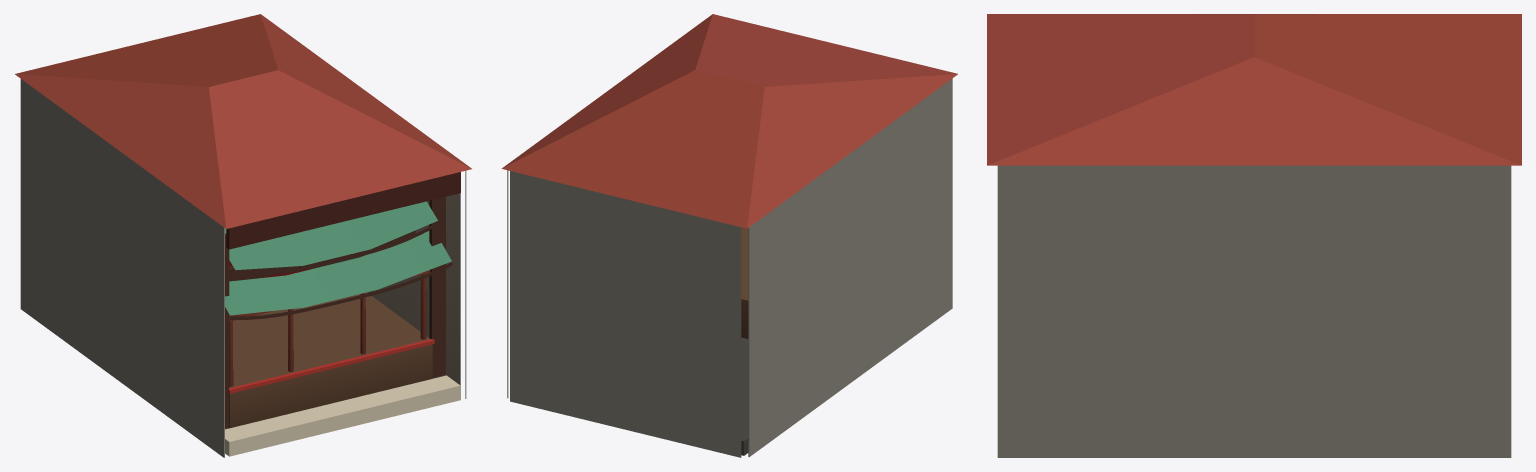
The model's file is stage.lod1.glb.
The picture shows the model from 3 angles, left to right: view 1: azimuth 30°, elevation 25°; view 2: azimuth 150°, elevation 25°; view 3: azimuth 270°, elevation 25°; orthographic projection. The views are drawn at different scales.
Parts seen in each view (by area): view 1: stage-lod1; view 2: stage-lod1; view 3: stage-lod1.
Boxes of the visible parts, x1=… form: stage-lod1: x1=15, y1=14, x2=471, y2=457; stage-lod1: x1=501, y1=14, x2=957, y2=457; stage-lod1: x1=987, y1=14, x2=1521, y2=457.
Size of the model in its own units: 10.2 by 10.9 by 15.2.
